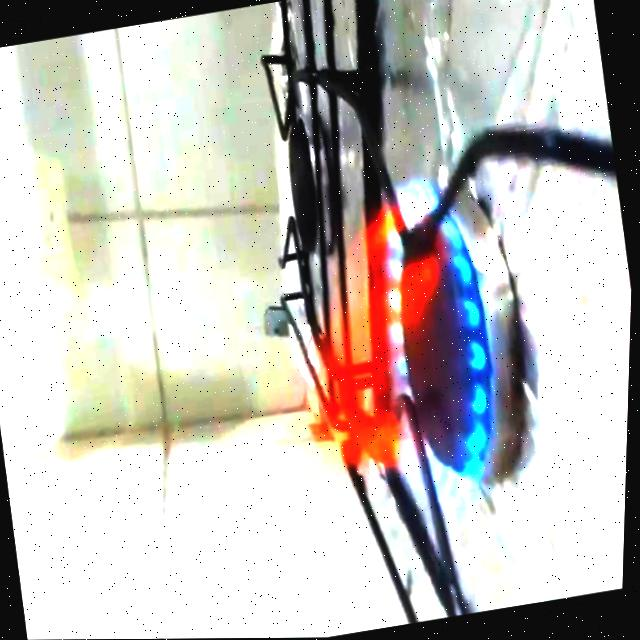Fire: (257, 166, 526, 546)
